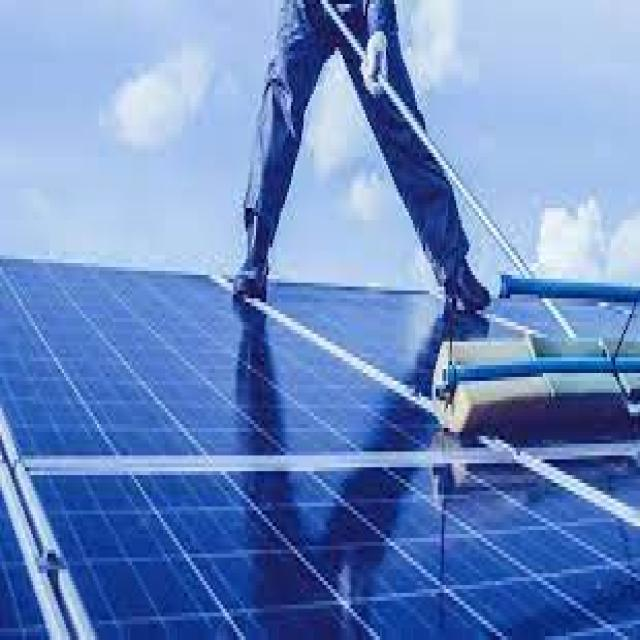clean-solar-panel: (33, 452, 640, 637), (0, 262, 440, 459), (272, 285, 441, 383)
